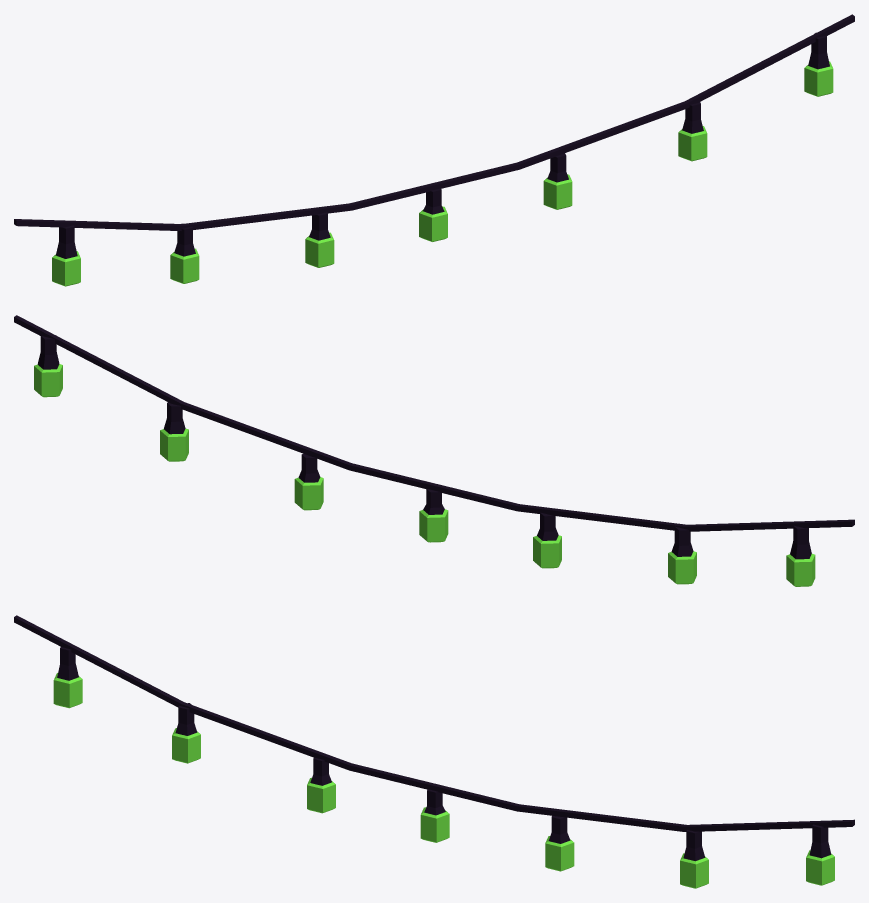
Rendered from StringLights_Alley.fbx.
The picture shows the model from 3 angles, top to bottom: view 1: azimuth 30°, elevation 25°; view 2: azimuth 150°, elevation 25°; view 3: azimuth 330°, elevation 25°; orthographic projection.
Visible parts, largest first — view 1: String Lights.002; view 2: String Lights.002; view 3: String Lights.002.
Part boxes in pixels (bbox=[...]): String Lights.002: bbox=[14, 14, 854, 286]; String Lights.002: bbox=[14, 315, 854, 586]; String Lights.002: bbox=[14, 615, 854, 888].
Bounding box in the file's own units: 282 × 39.31 × 7.64.
